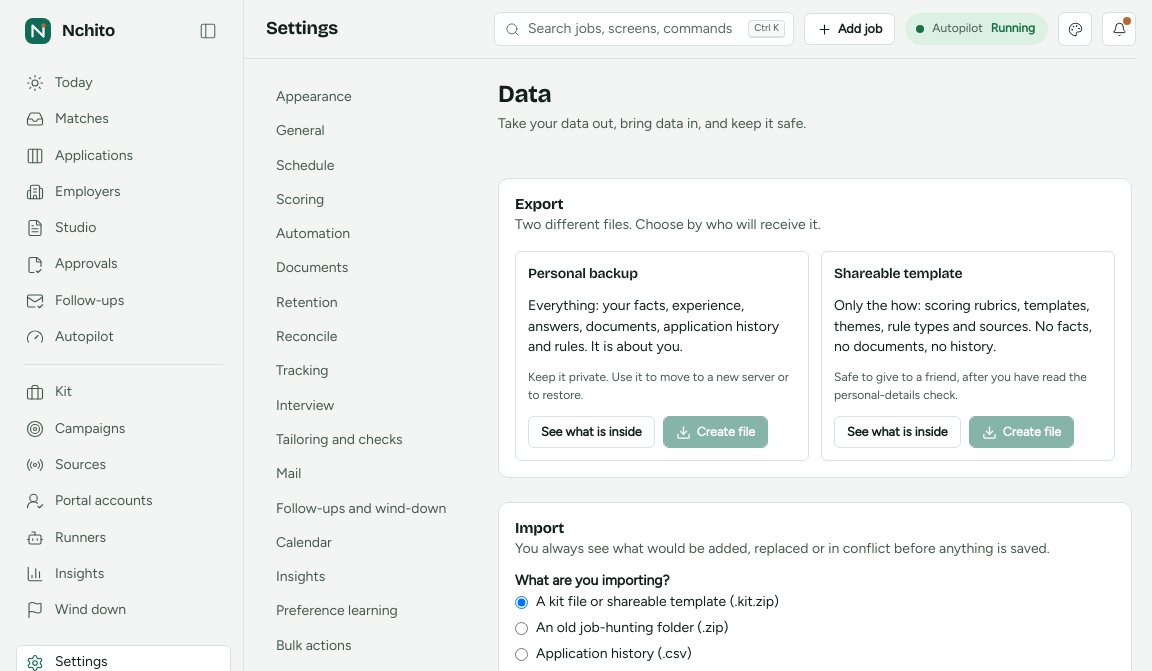
Test: Data against the wave 2 contract › says the download expired when the link answers 404
The width and height of the screenshot is (1152, 671).
Click the button "See what is inside" below "Personal backup". click: (591, 432)
box: [528,416,655,448]
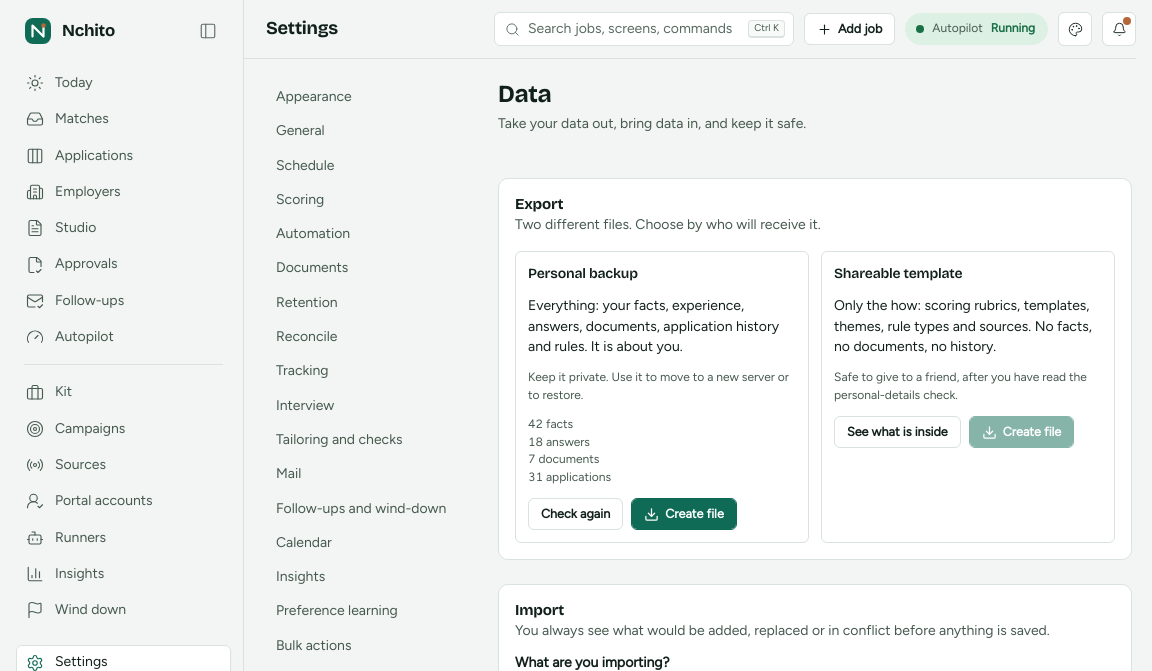
Expected: the list named "What Personal backup contains" is shown, [528,417,611,484]
Click the button "Create file" below "31". click: (684, 514)
box: [631,498,737,530]
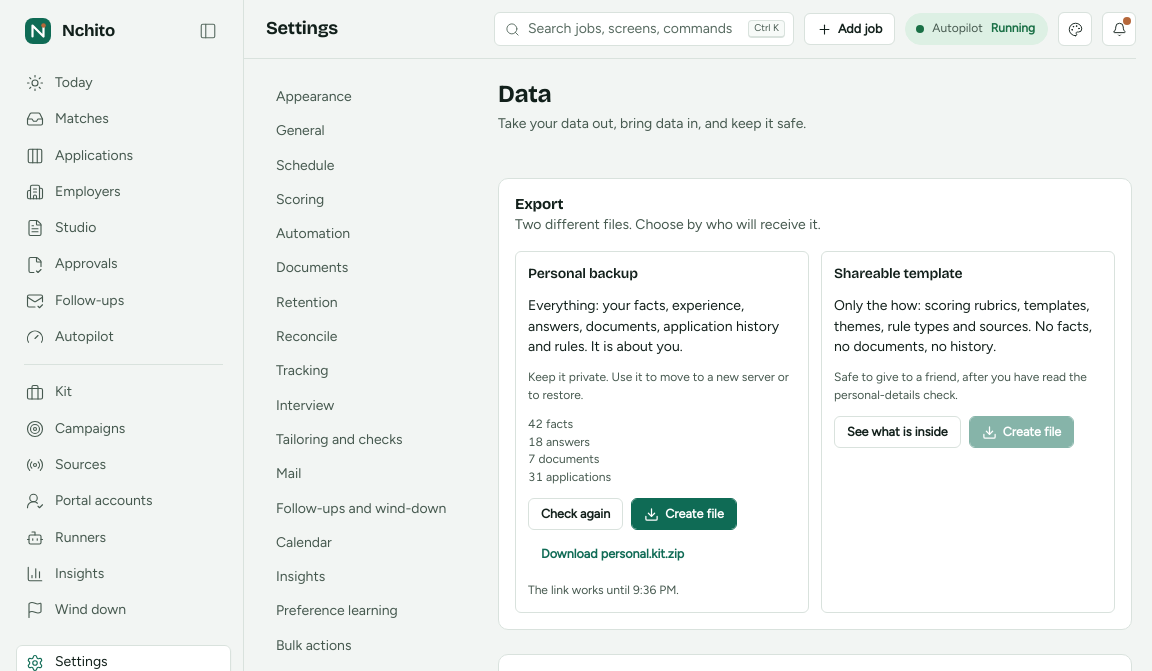
Click the button "Download personal.kit.zip". click: (613, 554)
box: [528,538,697,570]
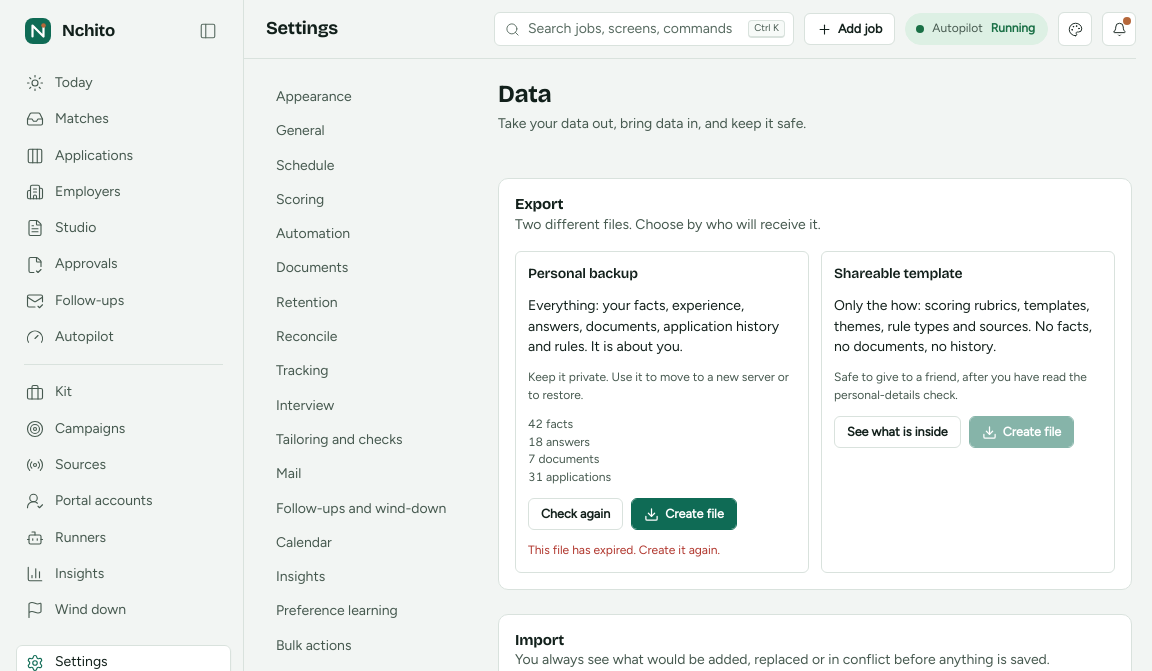
Expected: the text "This file has expired. Create it again." is shown, [528,543,720,557]
